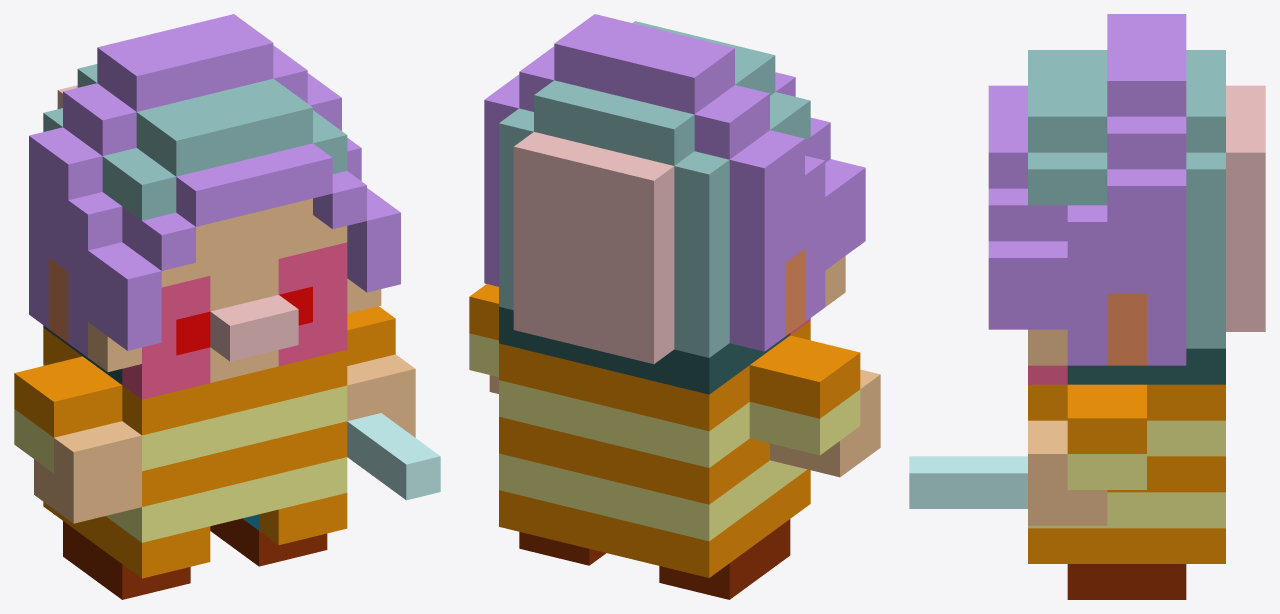
Rendered from mob.fbx.
3 views of the same model, side by side, from view 1: azimuth 30°, elevation 25°; view 2: azimuth 150°, elevation 25°; view 3: azimuth 270°, elevation 25° (orthographic). The views are drawn at different scales.
Visible parts, largest first — view 1: 对象; view 2: 对象; view 3: 对象.
Boxes of the visible parts, x1=… form: 对象: x1=14, y1=14, x2=440, y2=599; 对象: x1=469, y1=14, x2=880, y2=599; 对象: x1=909, y1=14, x2=1265, y2=599.
Size of the model in its own units: 10 by 14 by 9.
Materials: 1 (1 with a texture image).
